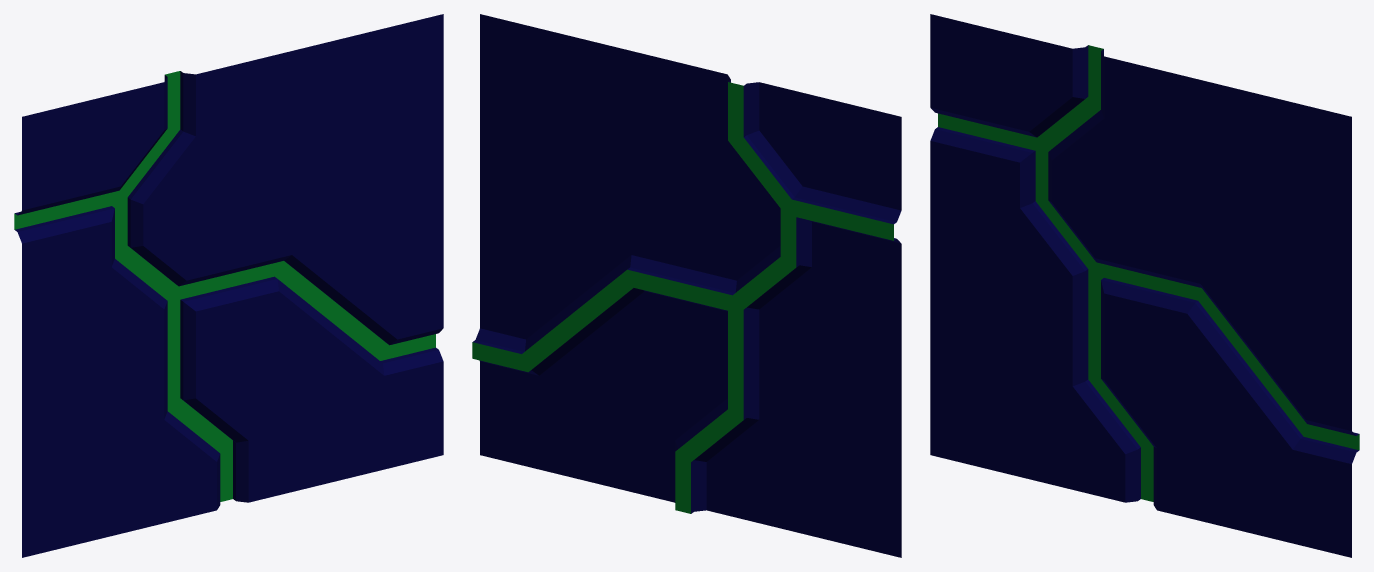
Rendered from OBJ_Mur_7_Sym.fbx.
3 views of the same model, side by side, from view 1: azimuth 30°, elevation 25°; view 2: azimuth 150°, elevation 25°; view 3: azimuth 330°, elevation 25° (orthographic).
Parts seen in each view (by area): view 1: OBJ_Mur_7_Sym; view 2: OBJ_Mur_7_Sym; view 3: OBJ_Mur_7_Sym.
Boxes of the visible parts, x1,y1,x2,y2 form: OBJ_Mur_7_Sym: [14, 14, 443, 557]; OBJ_Mur_7_Sym: [472, 14, 901, 557]; OBJ_Mur_7_Sym: [930, 14, 1359, 557].
Bounding box in the file's own units: 16 × 16 × 0.5.
